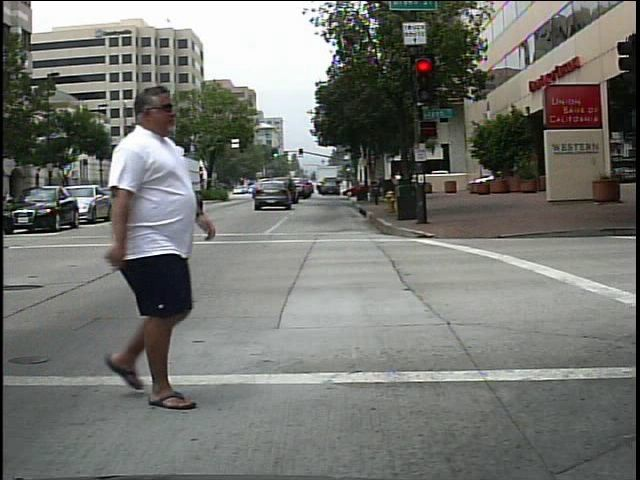person: (55, 83, 222, 411)
